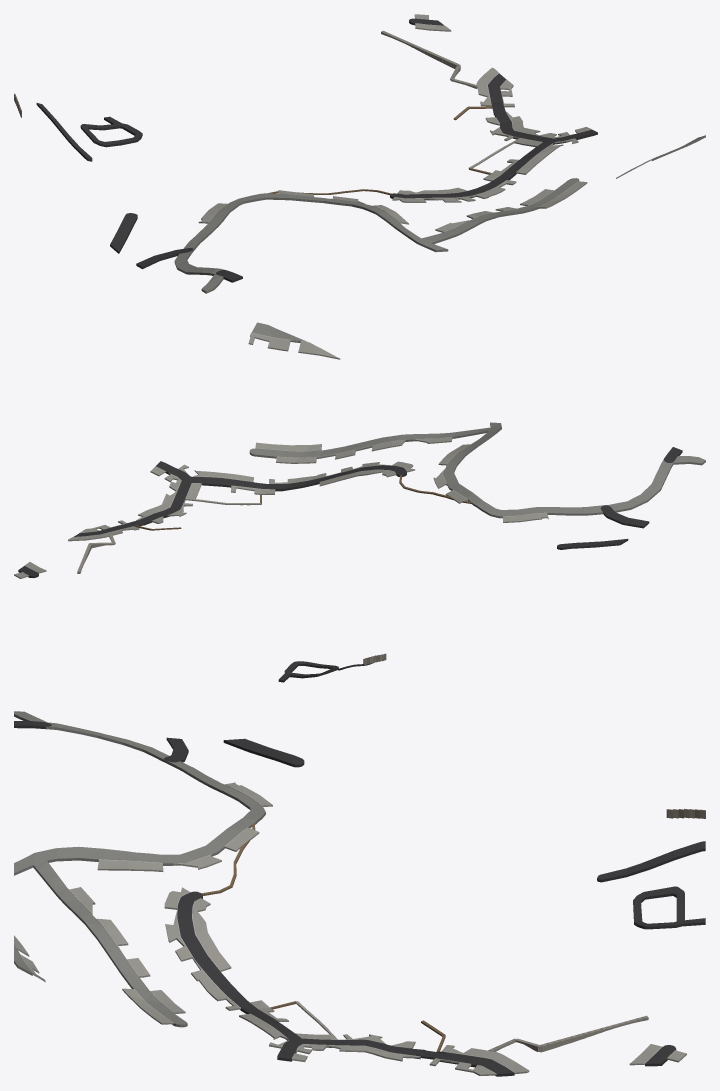
File: 17-109438-59465.38a1bde6.glb
3 views of the same model, one above another, from view 1: azimuth 30°, elevation 25°; view 2: azimuth 150°, elevation 25°; view 3: azimuth 270°, elevation 25° (orthographic). The views are drawn at different scales.
Bounding box in the file's own units: 293 × 66.27 × 292.
